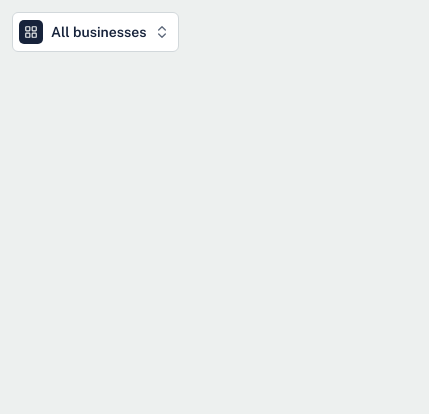
Test: BusinessSwitcher › opens and closes its panel from the button
This screenshot has width=429, height=414.
Click the button named "Business:" at [96, 32], box x1=12 y1=12 x2=179 y2=52
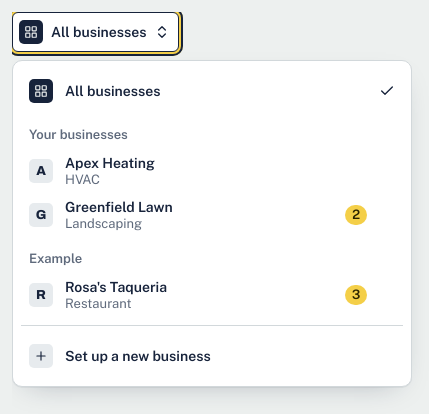
Expected: the button named "Business:" is expanded
Expected: the link "All businesses" is shown, x1=29 y1=79 x2=395 y2=103
Click the button named "Business:" at [96, 32], box x1=12 y1=12 x2=179 y2=52
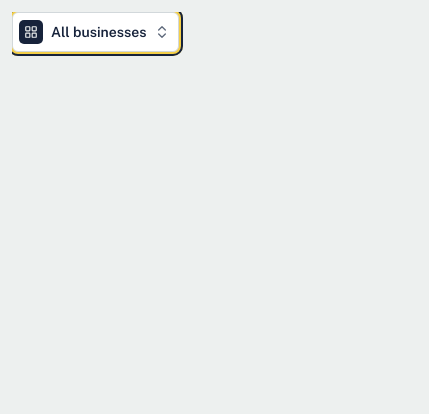
Expected: the button named "Business:" is collapsed, x1=12 y1=12 x2=179 y2=52
